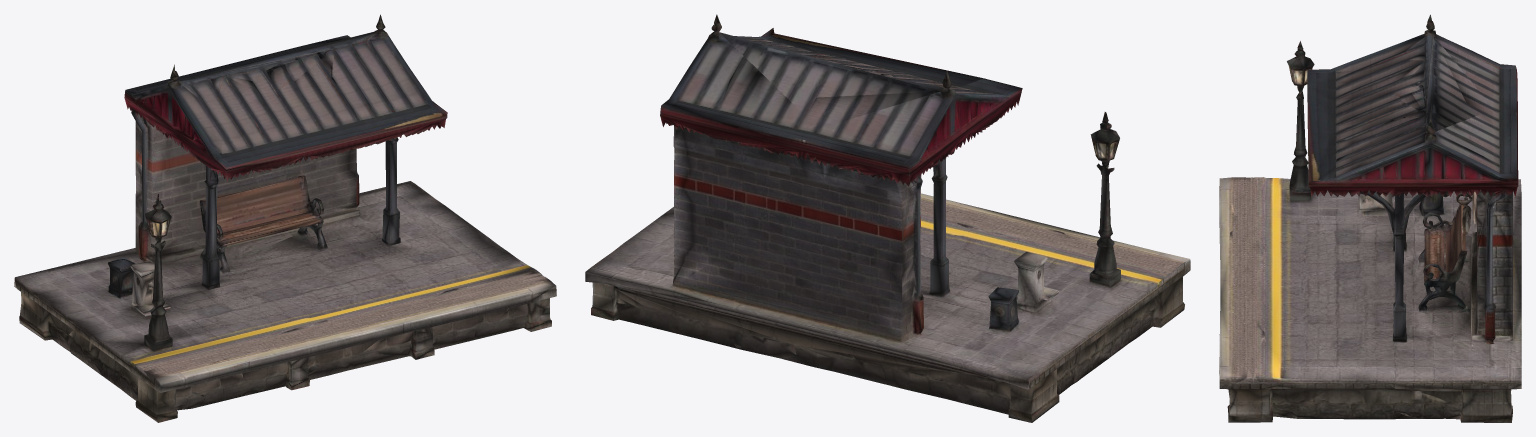
The model's file is city_kars_eastern_express_platform.glb.
3 renders of one model, left to right at view 1: azimuth 30°, elevation 25°; view 2: azimuth 150°, elevation 25°; view 3: azimuth 270°, elevation 25°, orthographic. The views are drawn at different scales.
Parts seen in each view (by area): view 1: Mesh1.0; view 2: Mesh1.0; view 3: Mesh1.0.
Boxes of the visible parts, x1,y1,x2,y2 form: Mesh1.0: (14, 14, 556, 422); Mesh1.0: (585, 14, 1190, 422); Mesh1.0: (1219, 14, 1521, 422).
Size of the model in its own units: 5.45 by 3.4 by 3.47.
1 material, 1 textured.
